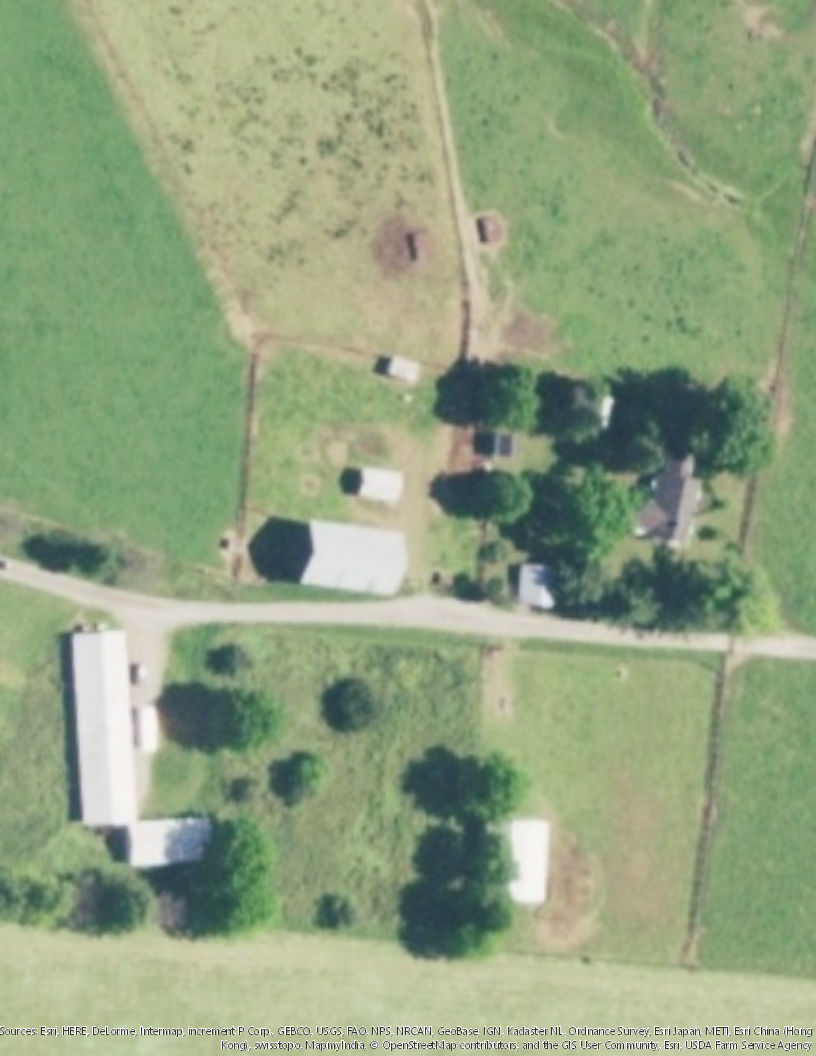cafo: (54, 618, 151, 828), (278, 514, 417, 598)
